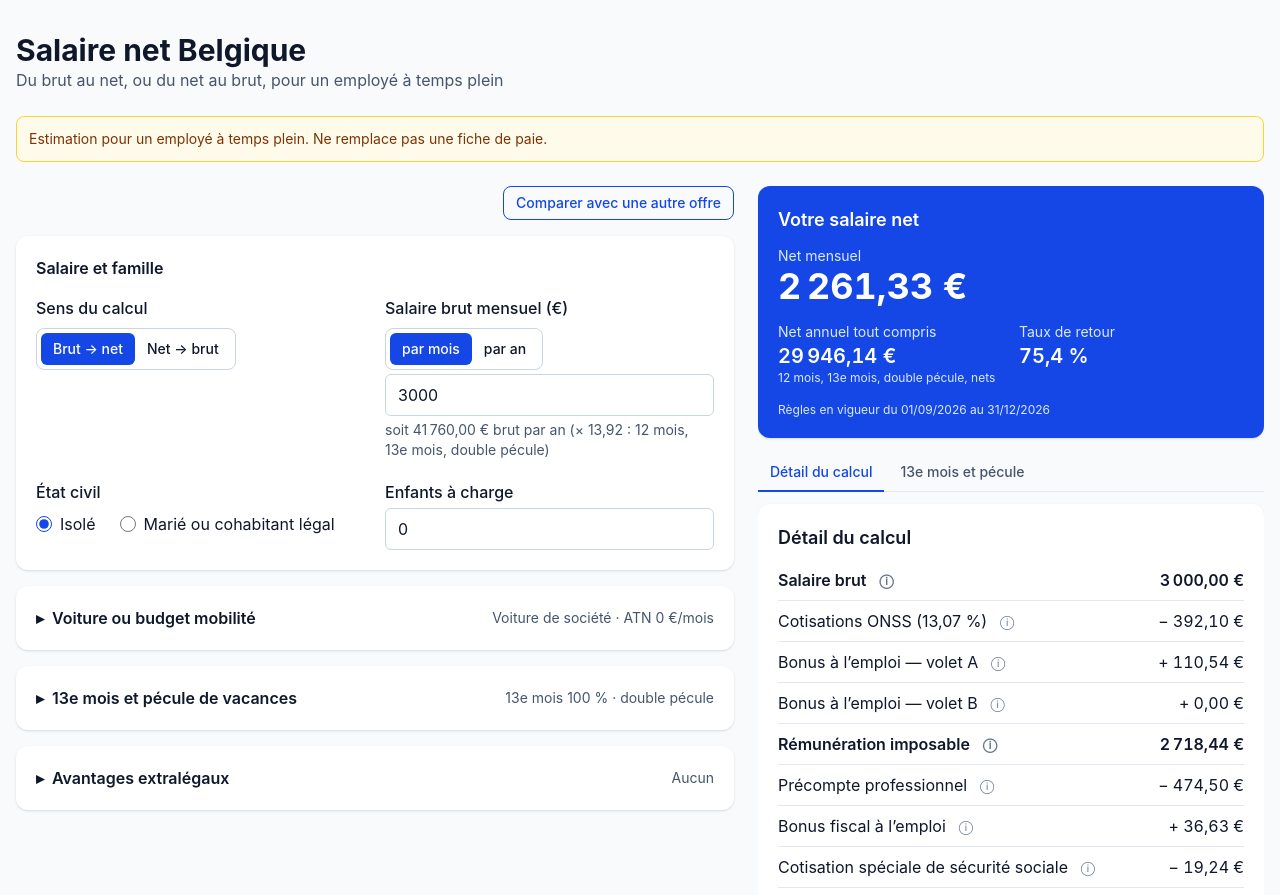
Test: App › avertit sous le salaire minimum
Replace the text in the field labelled "Salaire brut mensuel (€)" with "2000": (550, 395) [385, 374, 714, 416]
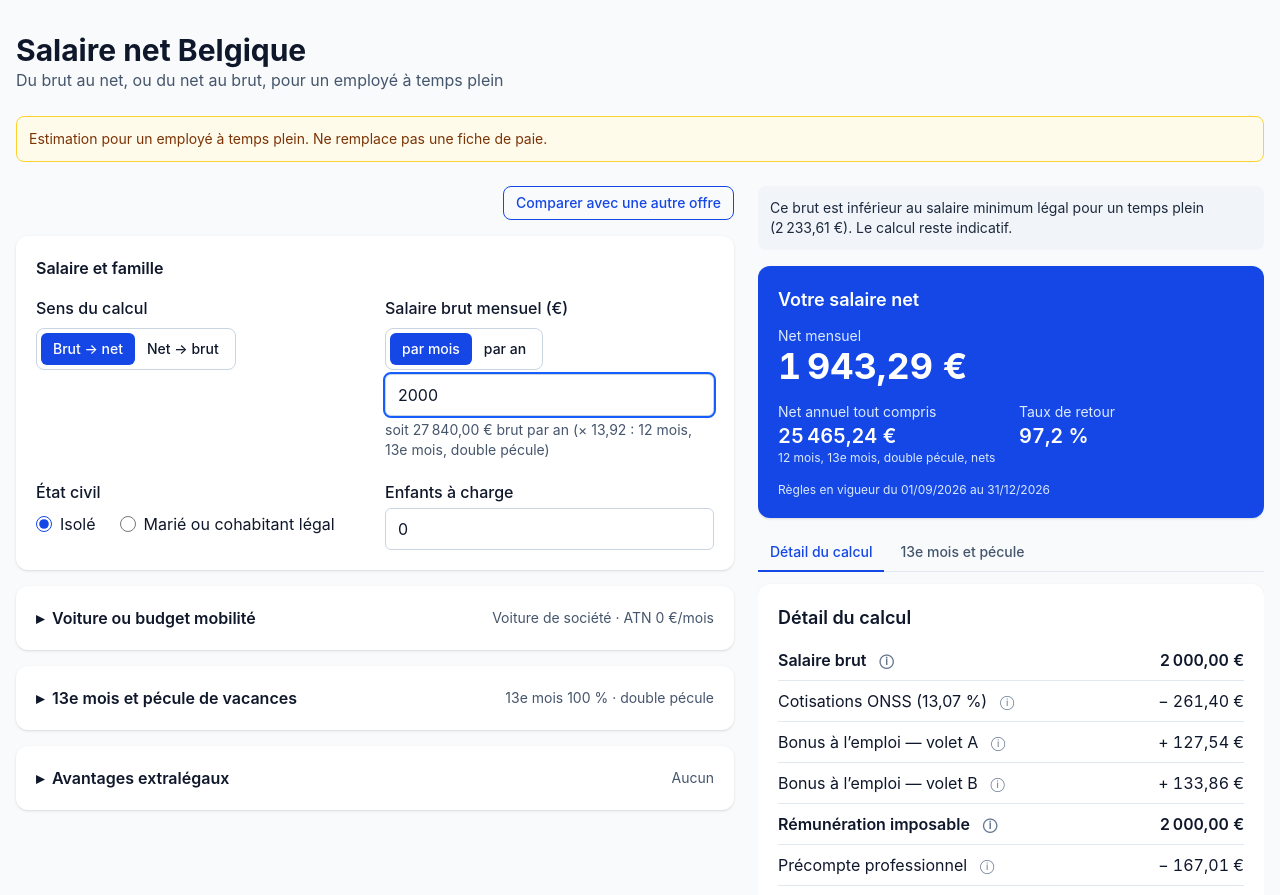
Now the text "inférieur au salaire minimum légal" is shown, box [770, 199, 1204, 236]
